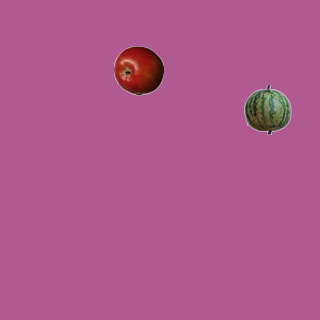Apple Braeburn: (113, 45, 163, 95)
Watermelon: (242, 84, 292, 134)
